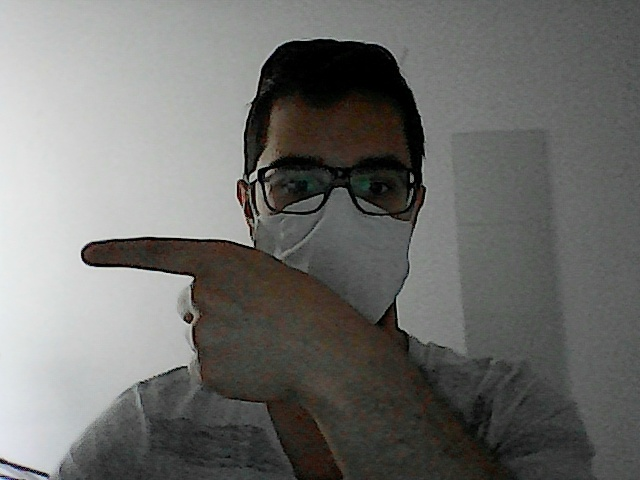right: (74, 231, 329, 409)
